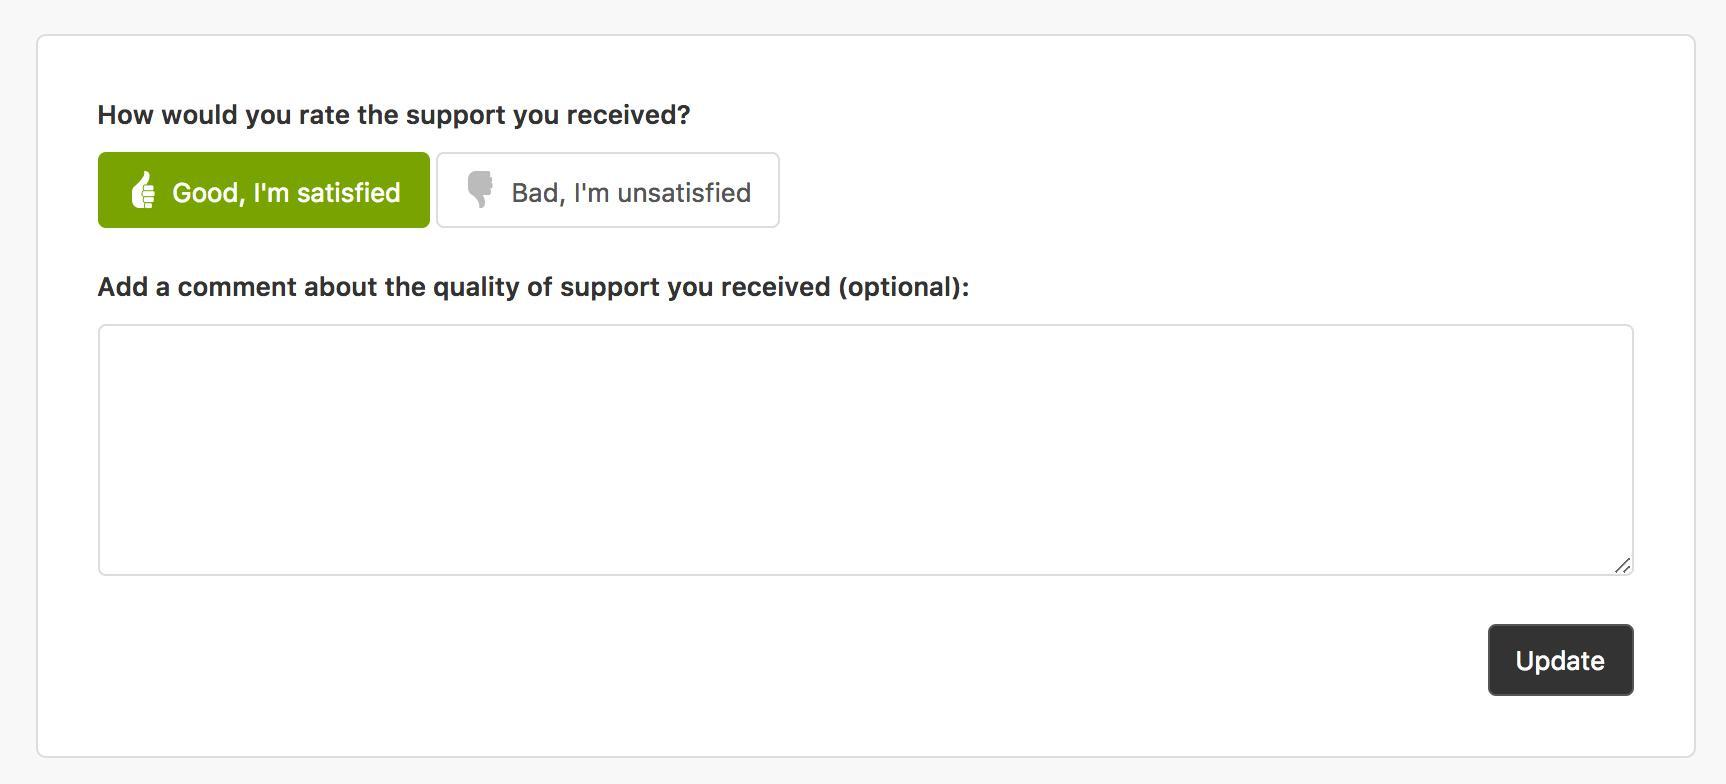button: (99, 154, 433, 231), (436, 155, 780, 229), (1487, 627, 1634, 698)
icon: (463, 165, 504, 213), (122, 168, 161, 216)
